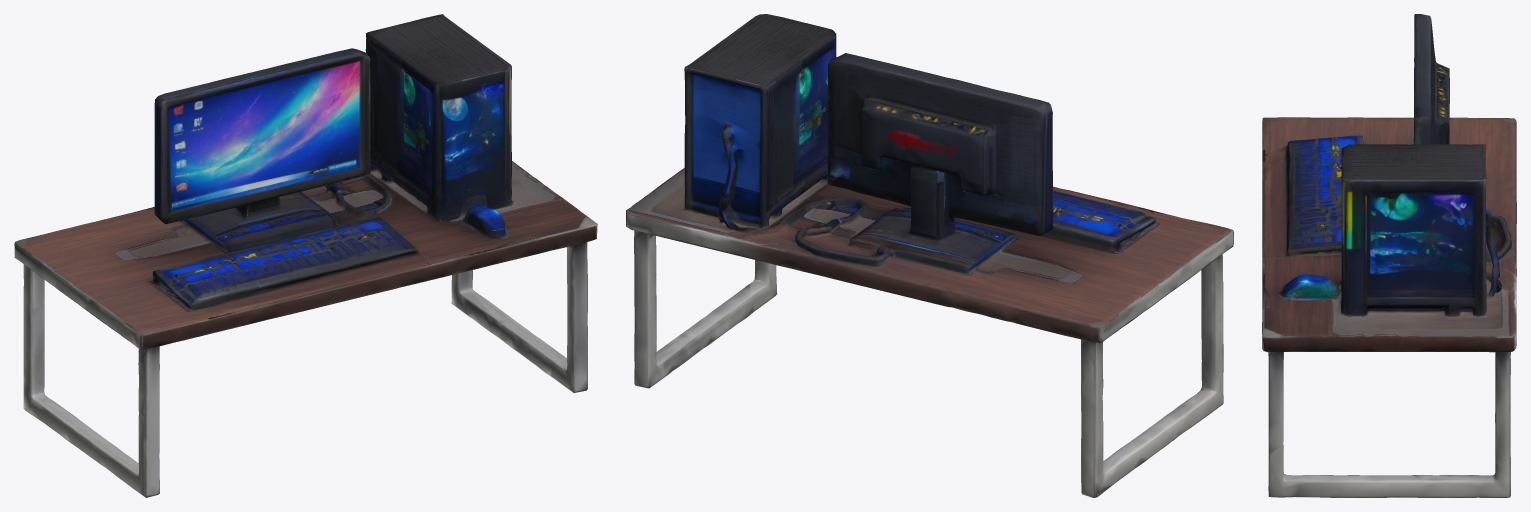
The model's file is Meshy_AI_RGB_Setup_0124080551_texture.glb.
The picture shows the model from 3 angles, left to right: view 1: azimuth 30°, elevation 25°; view 2: azimuth 150°, elevation 25°; view 3: azimuth 270°, elevation 25°; orthographic projection. The views are drawn at different scales.
Bounding box in the file's own units: 2.01 × 1.35 × 0.983.
1 material, 1 textured.
